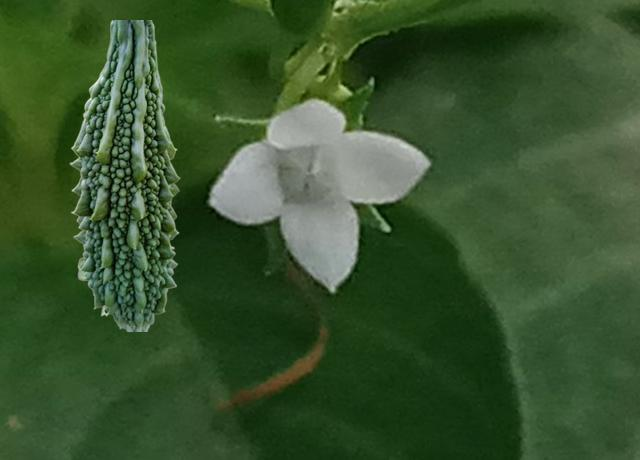ampalaya: (69, 20, 179, 330)
